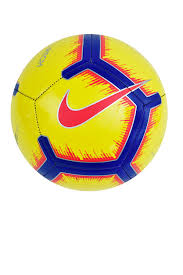top: (8, 25, 168, 193)
